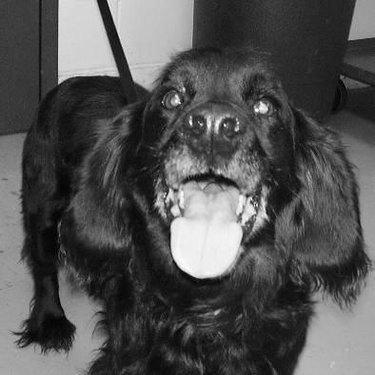dog: (17, 44, 371, 373)
